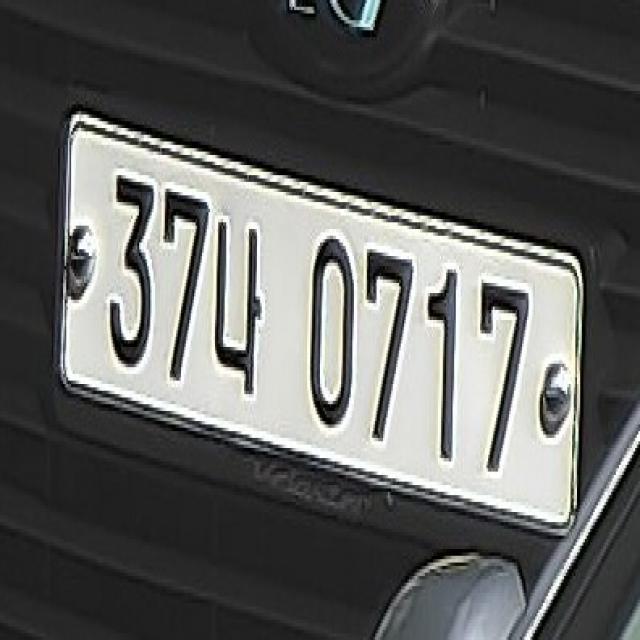0: (307, 229, 356, 428)
1: (422, 263, 461, 461)
3: (110, 168, 155, 364)
7: (476, 283, 532, 475), (362, 239, 415, 438), (158, 175, 208, 384)
license_plate: (58, 104, 585, 539)
na: (212, 216, 265, 394)
